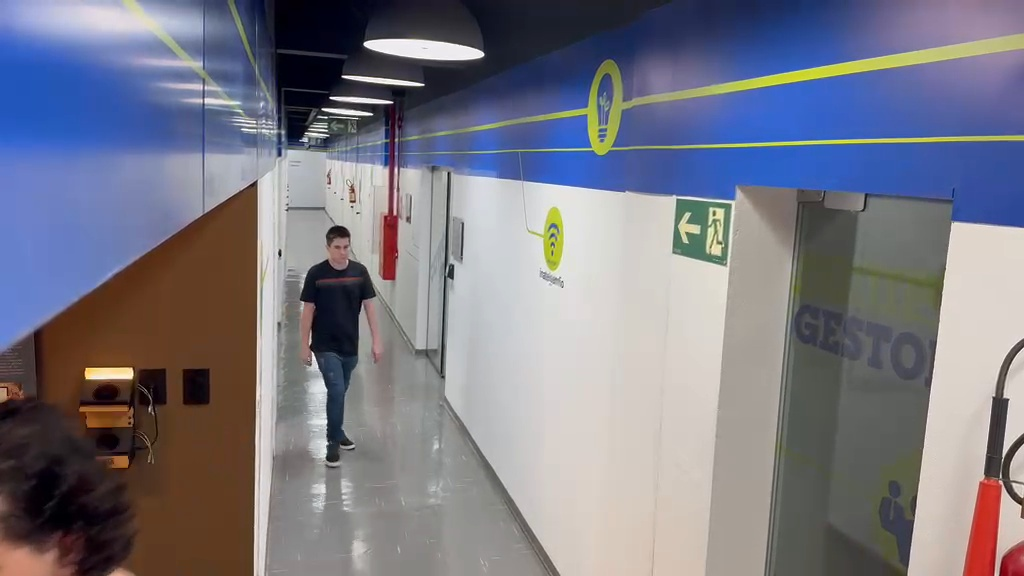person: (0, 400, 138, 572), (298, 224, 380, 460)
